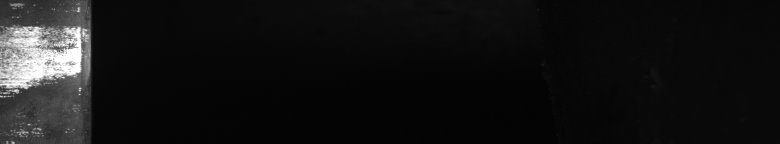kb: (4, 4, 80, 136)
